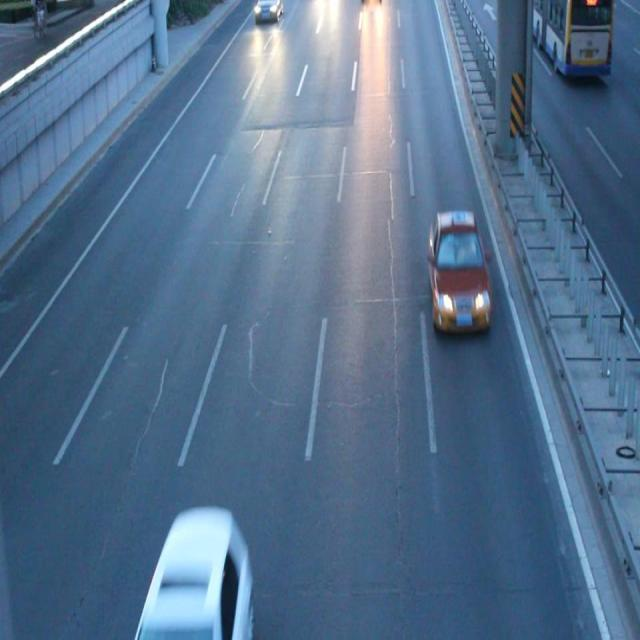car: (135, 509, 251, 640), (426, 212, 491, 334), (255, 1, 283, 22)
